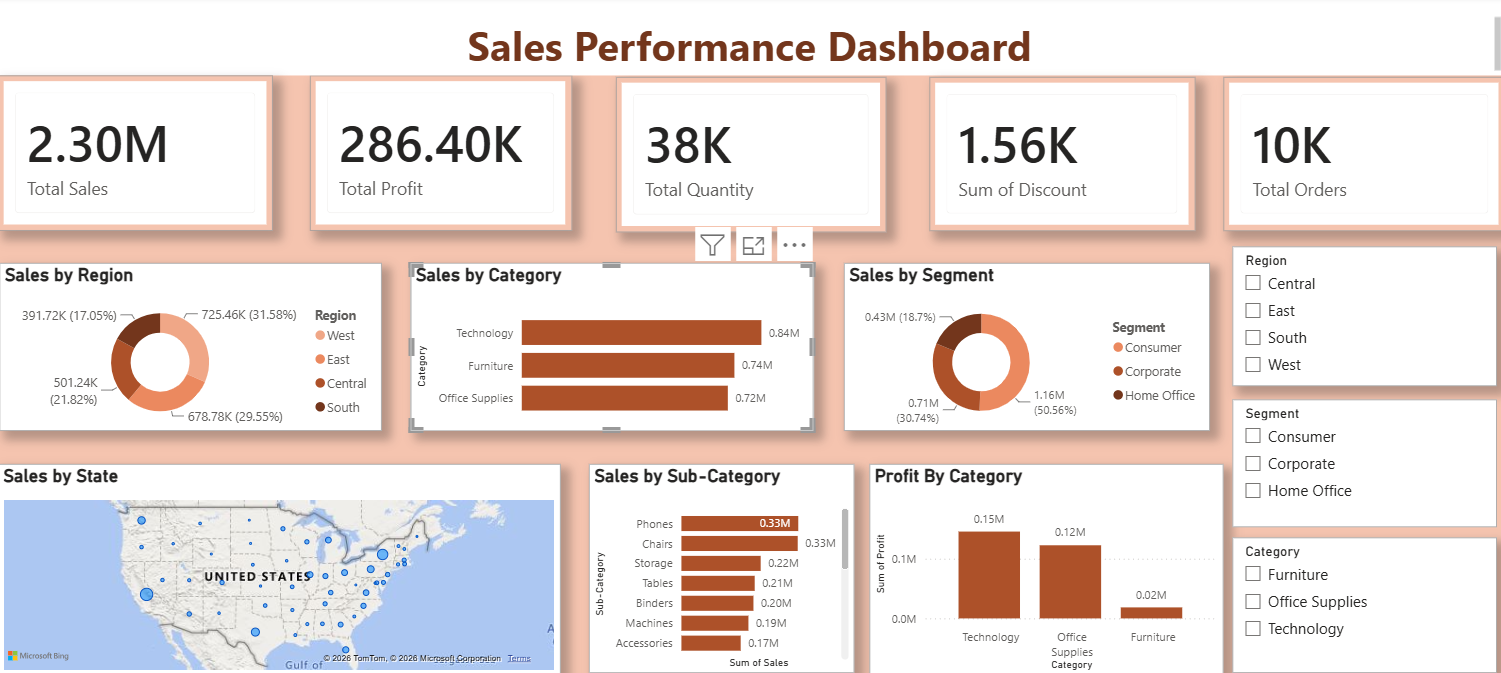

Layout of this report page (visuals, bound fields, positions):
{"tool":"powerbi","page":{"name":"Page 1","canvas":[1600,720],"ordinal":0},"visuals":[{"type":"cardVisual","fields":{"Data":["Sum(SampleSuperstore.Profit)"]},"box":[330.3,84.2,278,164.4],"z":0},{"type":"cardVisual","fields":{"Data":["Sum(SampleSuperstore.Quantity)"]},"box":[655.8,85.8,286.4,164.4],"z":1},{"type":"cardVisual","fields":{"Data":["SampleSuperstore.Total Orders"]},"box":[1300.2,85.8,299.6,163.5],"z":2},{"type":"clusteredBarChart","title":"Sales by Category","fields":{"Category":["SampleSuperstore.Category"],"Y":["Sum(SampleSuperstore.Sales)"]},"box":[437.4,283.1,427.9,178.1],"z":3},{"type":"donutChart","title":"Sales by Region","fields":{"Category":["SampleSuperstore.Region"],"Y":["Sum(SampleSuperstore.Sales)"]},"box":[1.6,283.1,405.6,178.1],"z":4},{"type":"clusteredBarChart","title":"Sales by Sub-Category","fields":{"Category":["SampleSuperstore.Sub-Category"],"Y":["Sum(SampleSuperstore.Sales)"]},"box":[626.7,496.3,281.5,222.7],"z":5},{"type":"clusteredColumnChart","title":"Profit By Category","fields":{"Category":["SampleSuperstore.Category"],"Y":["Sum(SampleSuperstore.Profit)"]},"box":[924.6,495.5,375.7,225.1],"z":6},{"type":"donutChart","title":"Sales by Segment","fields":{"Category":["SampleSuperstore.Segment"],"Y":["Sum(SampleSuperstore.Sales)"]},"box":[897.1,283.1,388.1,178.1],"z":7},{"type":"map","title":"Sales by State","fields":{"Category":["SampleSuperstore.State"],"Size":["Sum(SampleSuperstore.Sales)"]},"box":[0,496.3,596.5,224.3],"z":8},{"type":"slicer","fields":{"Values":["SampleSuperstore.Region"]},"box":[1309.1,265.6,281.5,147.9],"z":9},{"type":"slicer","fields":{"Values":["SampleSuperstore.Category"]},"box":[1309.1,574.2,281.5,144.7],"z":10},{"type":"slicer","fields":{"Values":["SampleSuperstore.Segment"]},"box":[1309.1,427.9,281.5,135.2],"z":11},{"type":"textbox","box":[1.6,1.6,1598.2,82.6],"z":12},{"type":"cardVisual","fields":{"Data":["Sum(SampleSuperstore.Sales)"]},"box":[0,84.2,291.5,164.4],"z":13},{"type":"cardVisual","fields":{"Data":["Sum(SampleSuperstore.Discount)"]},"box":[987.7,85.8,281.7,163.5],"z":14}]}

Visuals, with their boxes in screenshot pixels (x1, y1, x2, y2), scaled from the page's 1600x720 canvas onto the 1501x673 screenshot:
cardVisual - Sum(SampleSuperstore.Profit): 310/79/571/232
cardVisual - Sum(SampleSuperstore.Quantity): 615/80/884/234
cardVisual - SampleSuperstore.Total Orders: 1220/80/1500/233
"Sales by Category" clusteredBarChart: 410/265/812/431
"Sales by Region" donutChart: 2/265/382/431
"Sales by Sub-Category" clusteredBarChart: 588/464/852/672
"Profit By Category" clusteredColumnChart: 867/463/1220/672
"Sales by Segment" donutChart: 842/265/1206/431
"Sales by State" map: 0/464/560/672
slicer - SampleSuperstore.Region: 1228/248/1492/387
slicer - SampleSuperstore.Category: 1228/537/1492/672
slicer - SampleSuperstore.Segment: 1228/400/1492/526
textbox: 2/1/1500/79
cardVisual - Sum(SampleSuperstore.Sales): 0/79/273/232
cardVisual - Sum(SampleSuperstore.Discount): 927/80/1191/233
